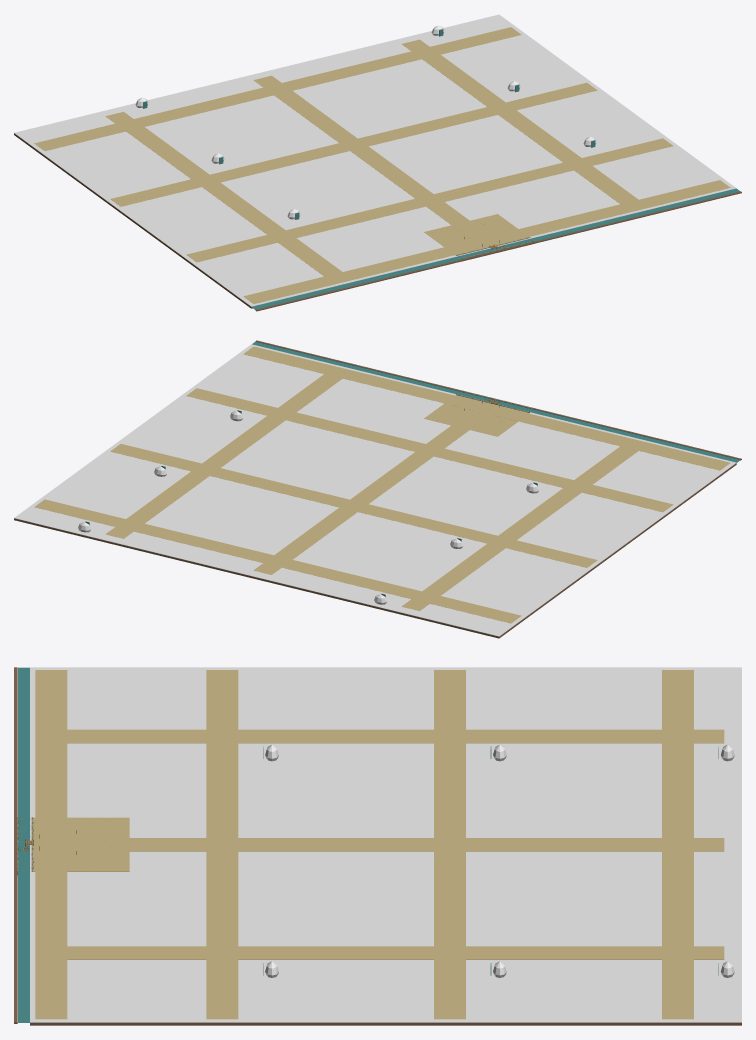
Rendered from phitsanulok-wilds.glb.
3 renders of one model, top to bottom at view 1: azimuth 30°, elevation 25°; view 2: azimuth 150°, elevation 25°; view 3: azimuth 270°, elevation 25°, orthographic. The views are drawn at different scales.
Parts seen in each view (by area): view 1: Expanded ground · meadow, Regional avenues · sand, River extension · water, Far bank extension · earth, Terrain · sand, Expanded ground · earth, Wild rocks · paving; view 2: Expanded ground · meadow, Regional avenues · sand, Expanded ground · earth, River extension · water, Terrain · sand, Far bank extension · earth, Wild rocks · paving; view 3: Expanded ground · meadow, Regional avenues · sand, River extension · water, Expanded ground · earth, Terrain · sand, Far bank extension · earth, Wild rocks · paving, River · water.
Part boxes in pixels (x1=…): Expanded ground · meadow: x1=14, y1=14, x2=736, y2=306; Regional avenues · sand: x1=34, y1=27, x2=730, y2=303; River extension · water: x1=251, y1=188, x2=739, y2=309; Far bank extension · earth: x1=255, y1=191, x2=741, y2=311; Terrain · sand: x1=424, y1=214, x2=528, y2=255; Expanded ground · earth: x1=14, y1=133, x2=252, y2=308; Wild rocks · paving: x1=135, y1=25, x2=596, y2=219; Expanded ground · meadow: x1=14, y1=344, x2=736, y2=636; Regional avenues · sand: x1=34, y1=346, x2=730, y2=623; Expanded ground · earth: x1=14, y1=463, x2=736, y2=638; River extension · water: x1=252, y1=341, x2=740, y2=463; Terrain · sand: x1=424, y1=395, x2=529, y2=436; Far bank extension · earth: x1=255, y1=340, x2=741, y2=460; Wild rocks · paving: x1=78, y1=411, x2=538, y2=604; Expanded ground · meadow: x1=30, y1=667, x2=741, y2=1022; Regional avenues · sand: x1=35, y1=670, x2=724, y2=1019; River extension · water: x1=18, y1=667, x2=31, y2=1022; Expanded ground · earth: x1=30, y1=1022, x2=741, y2=1025; Terrain · sand: x1=33, y1=817, x2=129, y2=871; Far bank extension · earth: x1=14, y1=667, x2=17, y2=1023; Wild rocks · paving: x1=265, y1=744, x2=734, y2=977; River · water: x1=18, y1=818, x2=29, y2=872.
Bounding box in the file's own units: 236 × 6 × 204.
